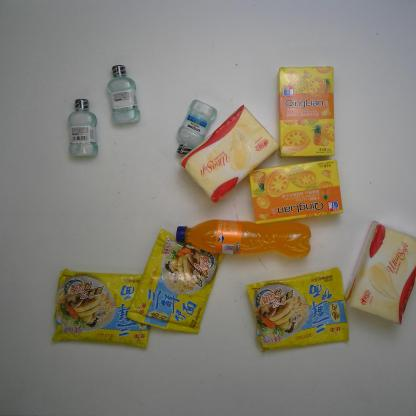Dessert: (249, 158, 344, 225), (275, 64, 337, 159)
Drink: (175, 219, 312, 258)
Instant Noodles: (126, 226, 226, 335), (244, 266, 352, 354), (49, 267, 151, 349)
Personal Hygiene: (175, 99, 218, 156), (106, 64, 141, 125), (66, 97, 100, 159)
Tissue: (178, 104, 282, 204), (343, 218, 416, 328)
